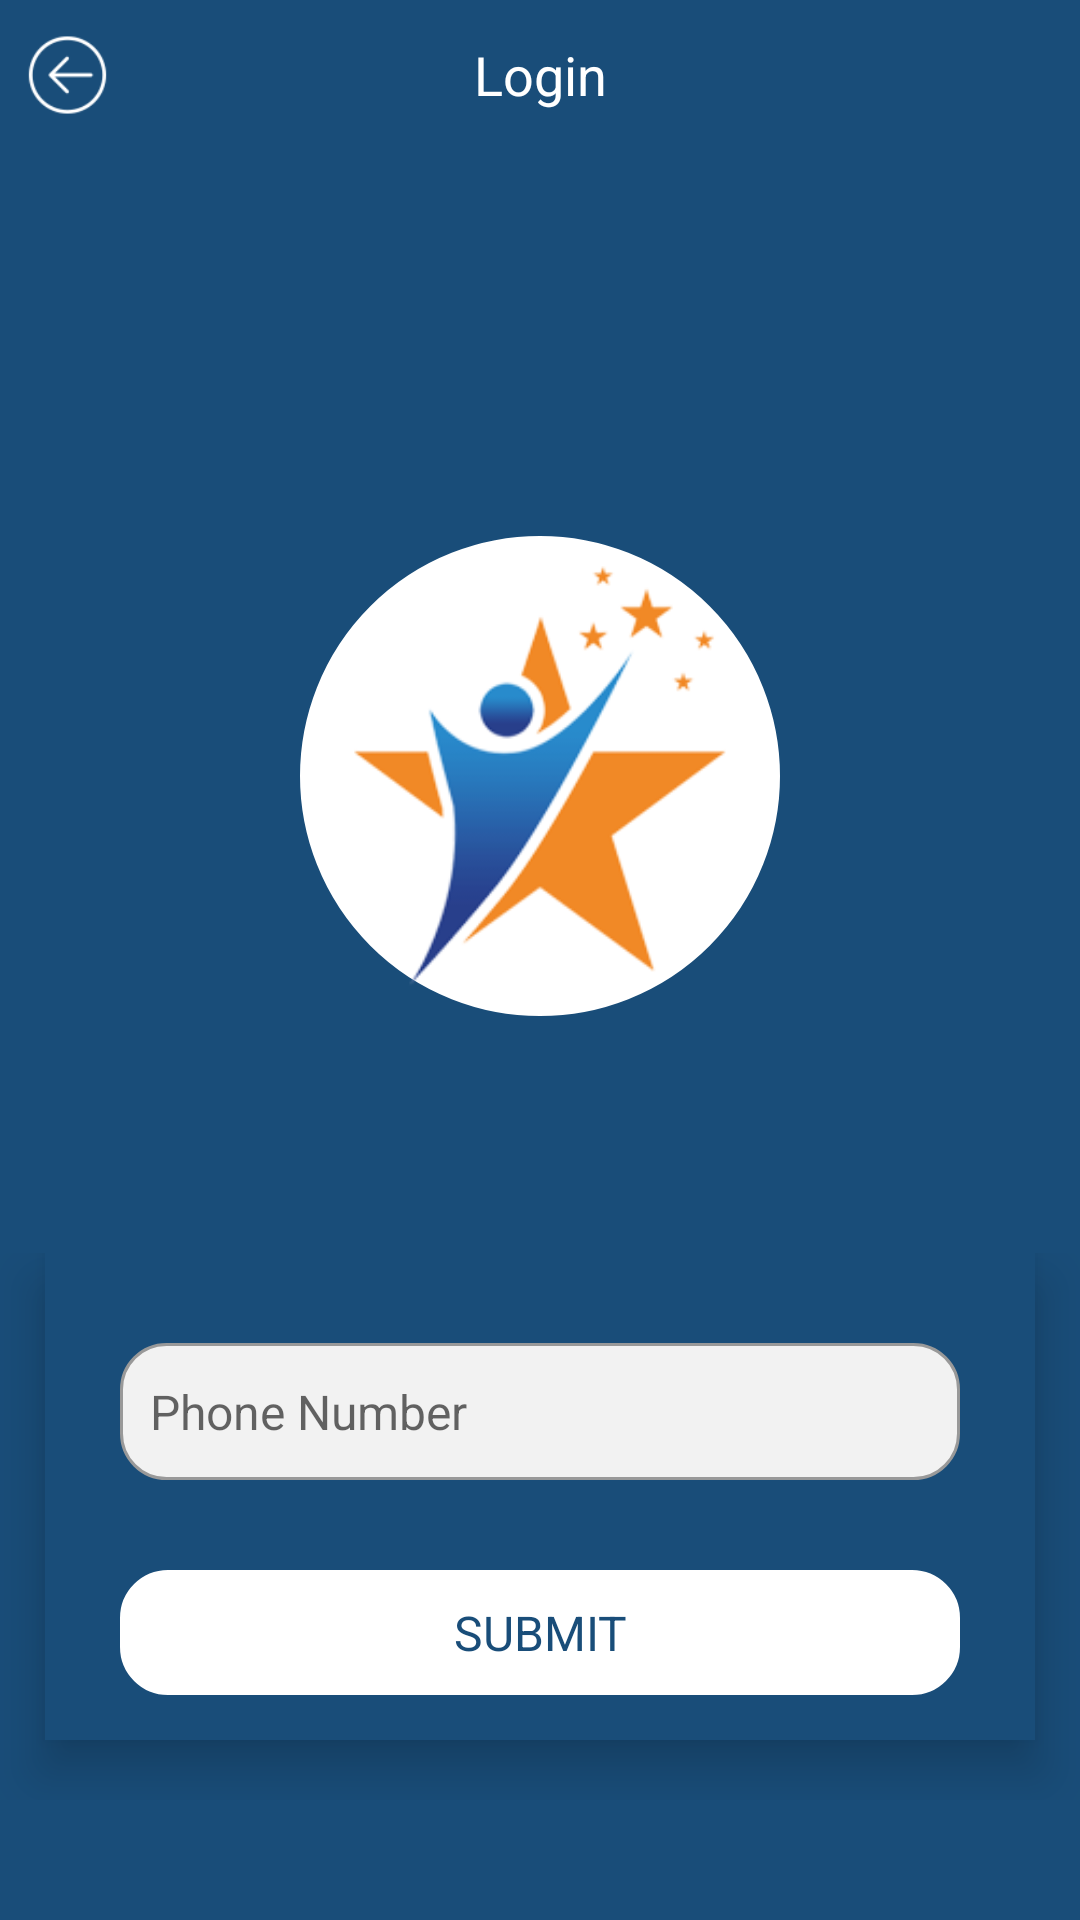

Screen size 1080×1920. Icon name, then its box in pixels as (x1, y1, x2, y2):
leftarrow: (28, 36, 107, 114)
